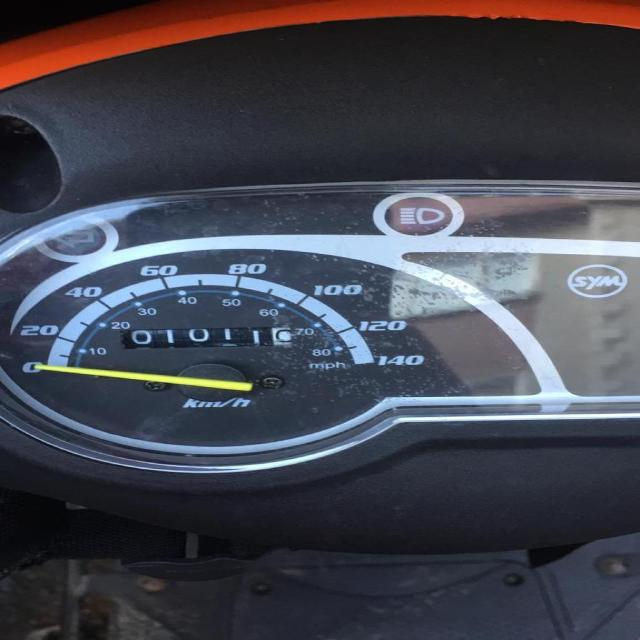odometer: (117, 324, 296, 349)
